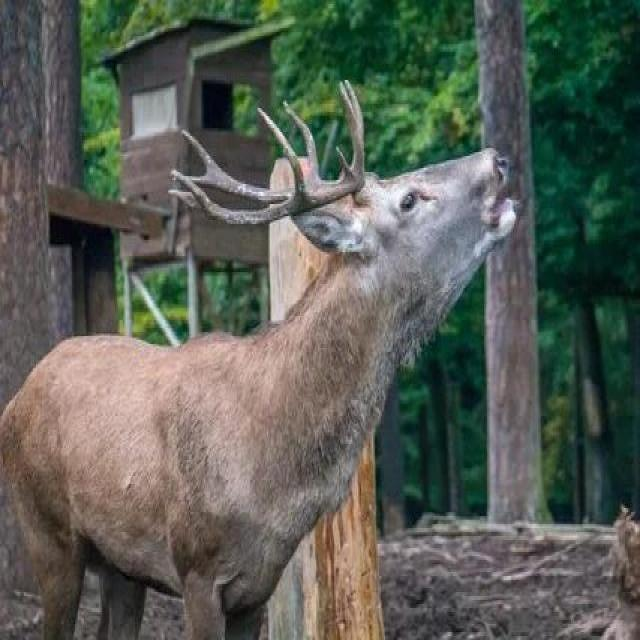deer: (0, 145, 560, 583)
